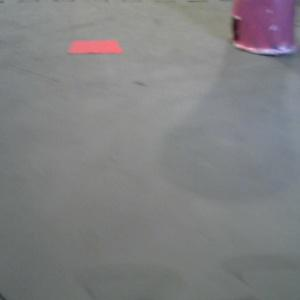right: (228, 1, 296, 54)
